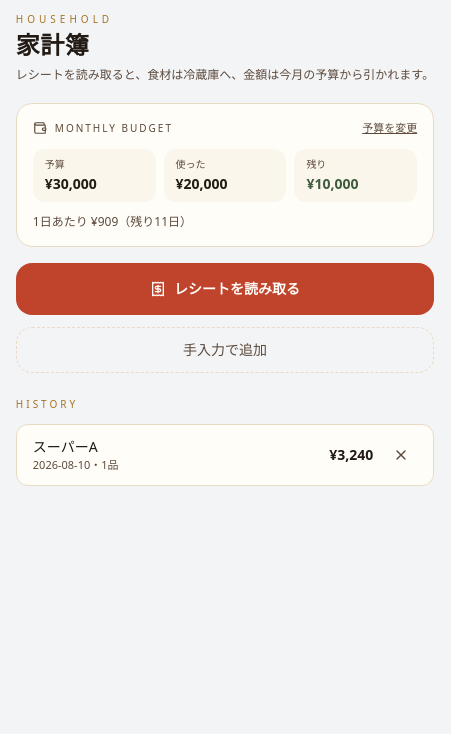
BudgetView — editing a record › opens an edit form prefilled from the record
Click the button with aria-label "2026-08-10 スーパーA を編集": (65, 446) x1=33 y1=436 x2=317 y2=473
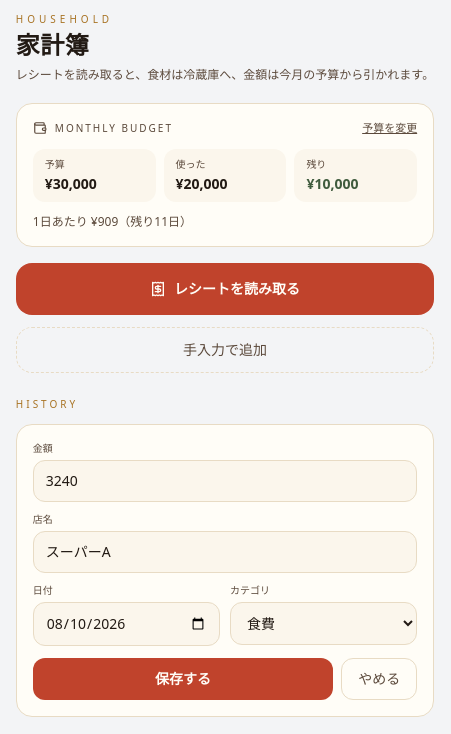
Now the field labelled "金額" holds "3240", box x1=33 y1=460 x2=417 y2=502
Now the field labelled "店名" holds "スーパーA", box x1=33 y1=530 x2=417 y2=572
Now the date field labelled "日付" holds "2026-08-10", box x1=33 y1=602 x2=220 y2=646
